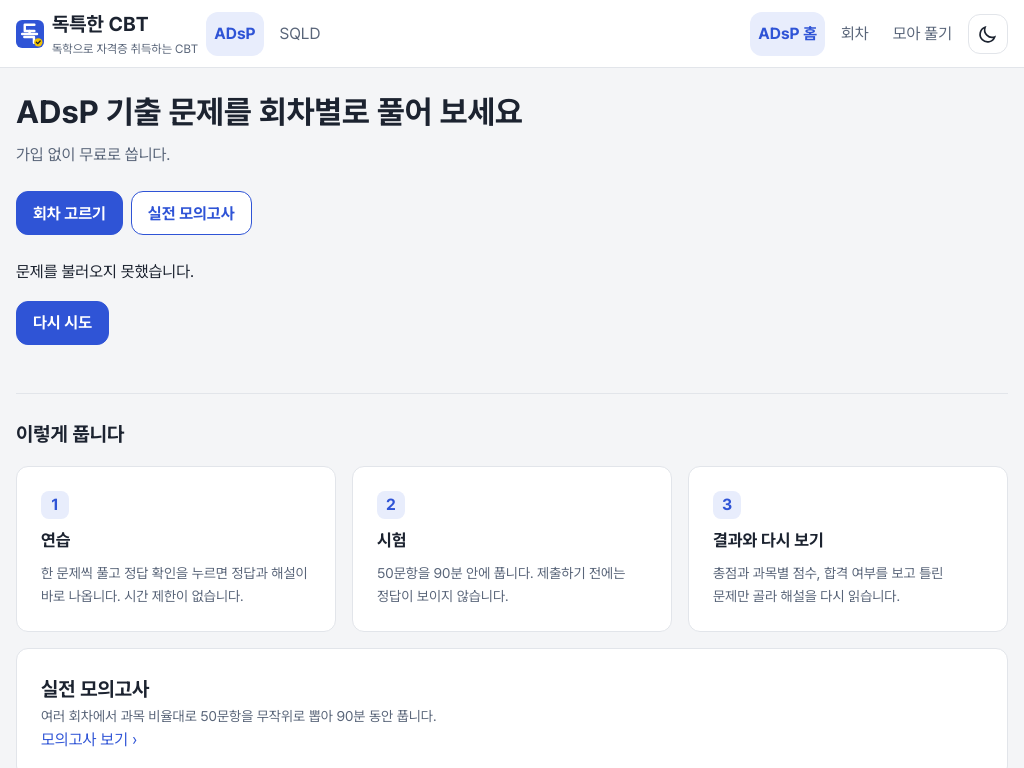
Test: failed home request retries successfully
Expected: the text "문제를 불러오지 못했습니다." is shown, [16,262,194,281]
Expected: the text "가입 없이 무료로 씁니다." is shown, [16,145,170,164]
Step 1. Click the button "다시 시도" → (62, 323), box [16,301,109,345]
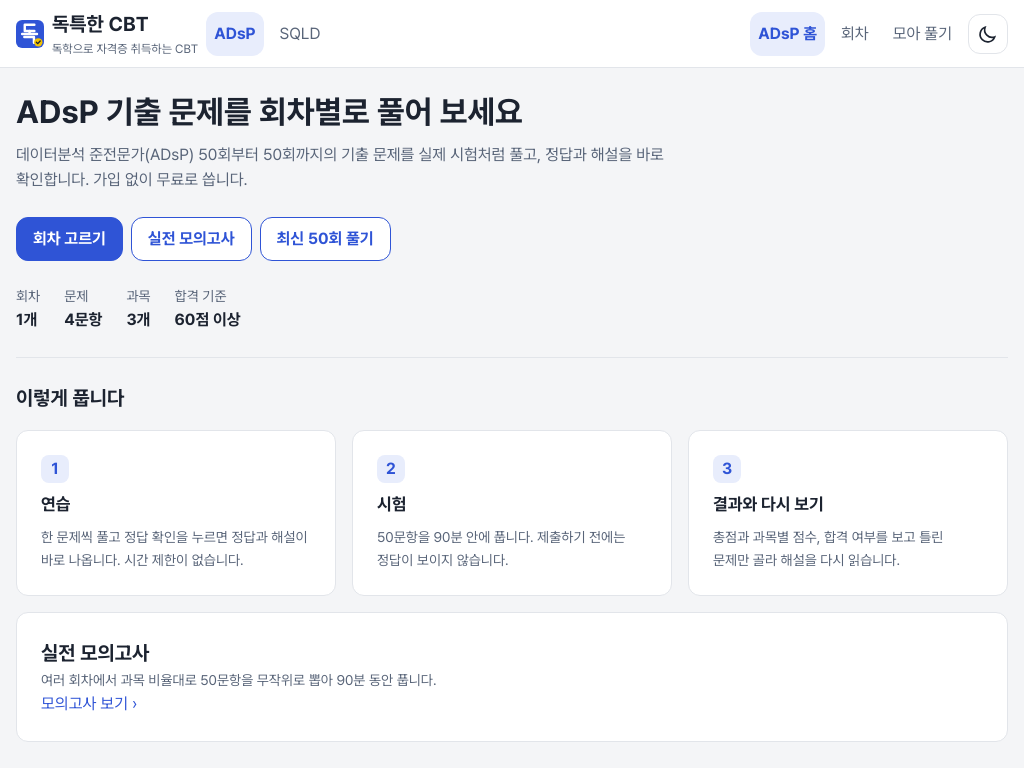
Expected: the link "최신 50회 풀기" is shown, [260,217,391,261]
